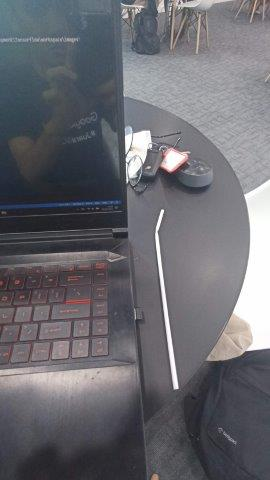sedotan: (155, 209, 178, 389)
